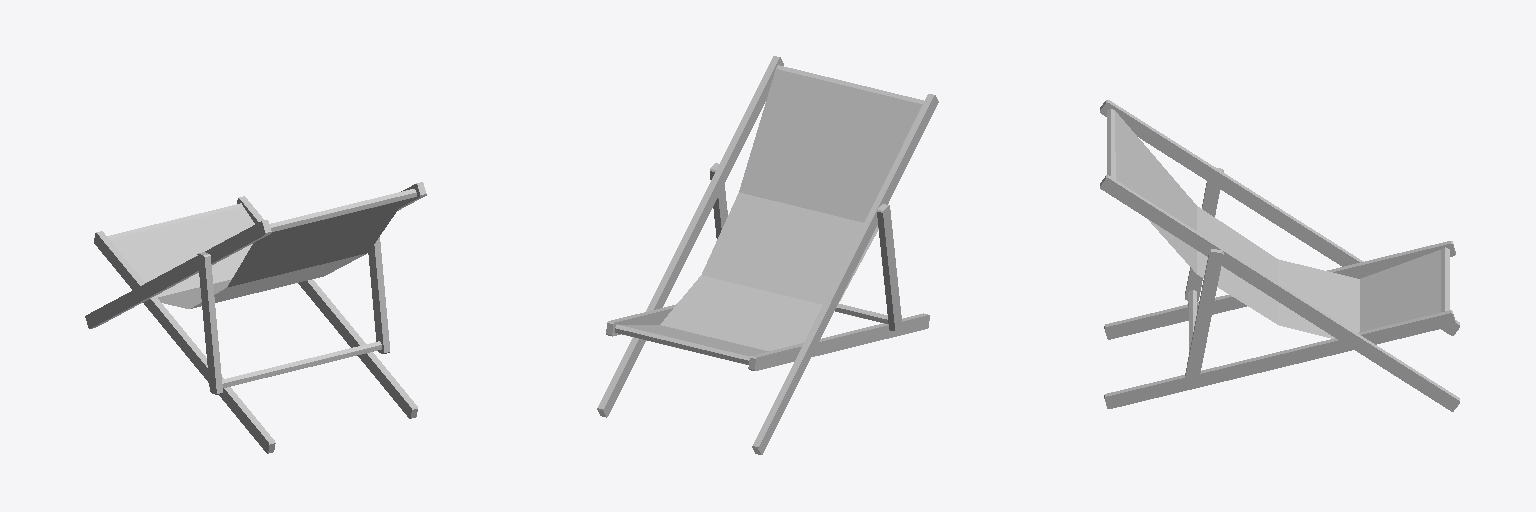
The model's file is homedecor_deckchair.obj.
3 views of the same model, side by side, from view 1: azimuth 30°, elevation 25°; view 2: azimuth 150°, elevation 25°; view 3: azimuth 270°, elevation 25° (orthographic).
Visible parts, largest first — view 1: Cube.001; view 2: Cube.001; view 3: Cube.001.
Boxes of the visible parts, box(x1,y1,x2,y2) form: Cube.001: box(85, 182, 426, 453); Cube.001: box(597, 56, 938, 454); Cube.001: box(1100, 100, 1459, 411).
Bounding box in the file's own units: 0.8317 × 1.07 × 1.5.